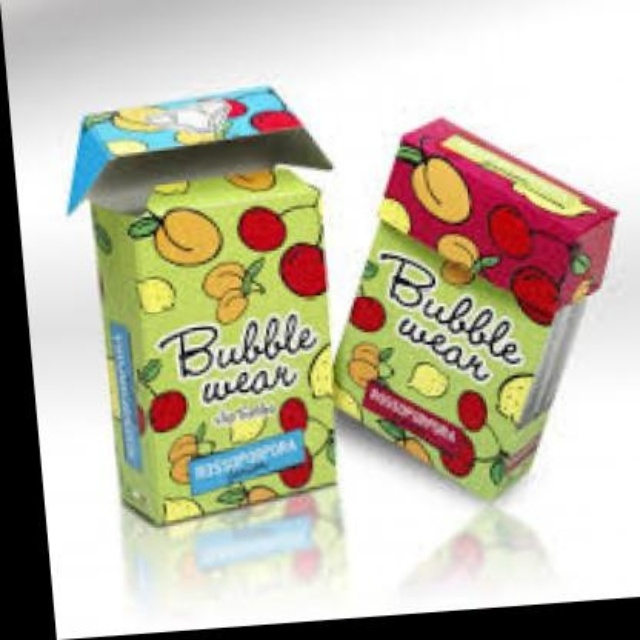trash: (69, 86, 335, 523), (335, 118, 615, 497)
